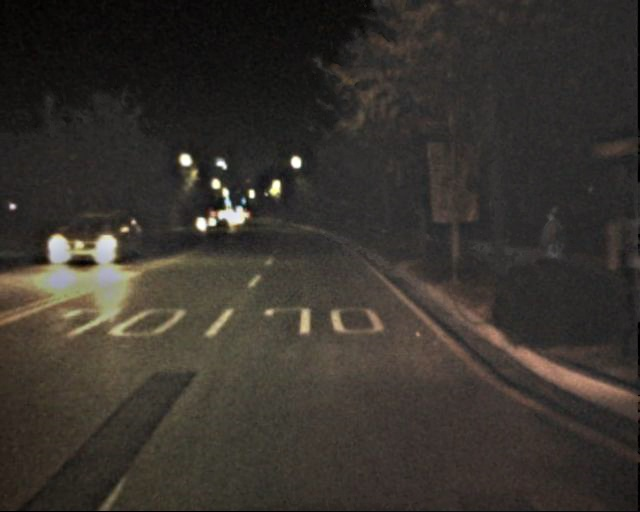person: (537, 207, 570, 287)
